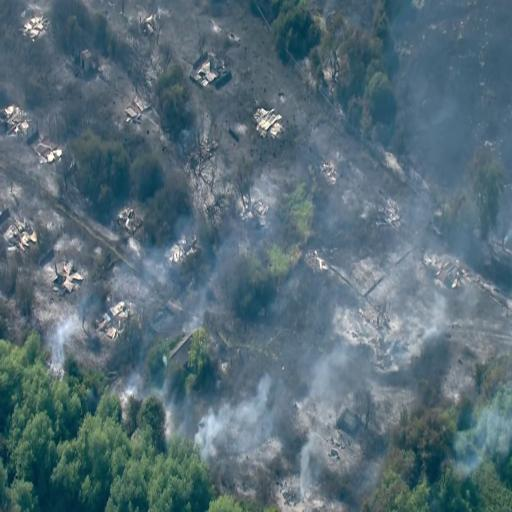smoke: (196, 412, 225, 441)
